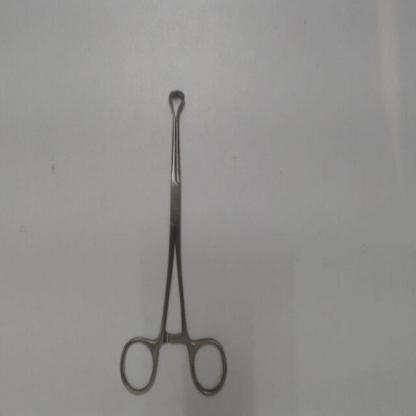Babcock Tissue Forceps: (118, 84, 233, 401)
